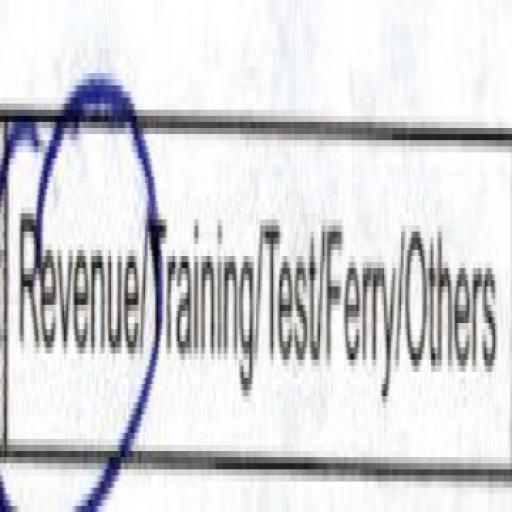check: (2, 76, 144, 512)
